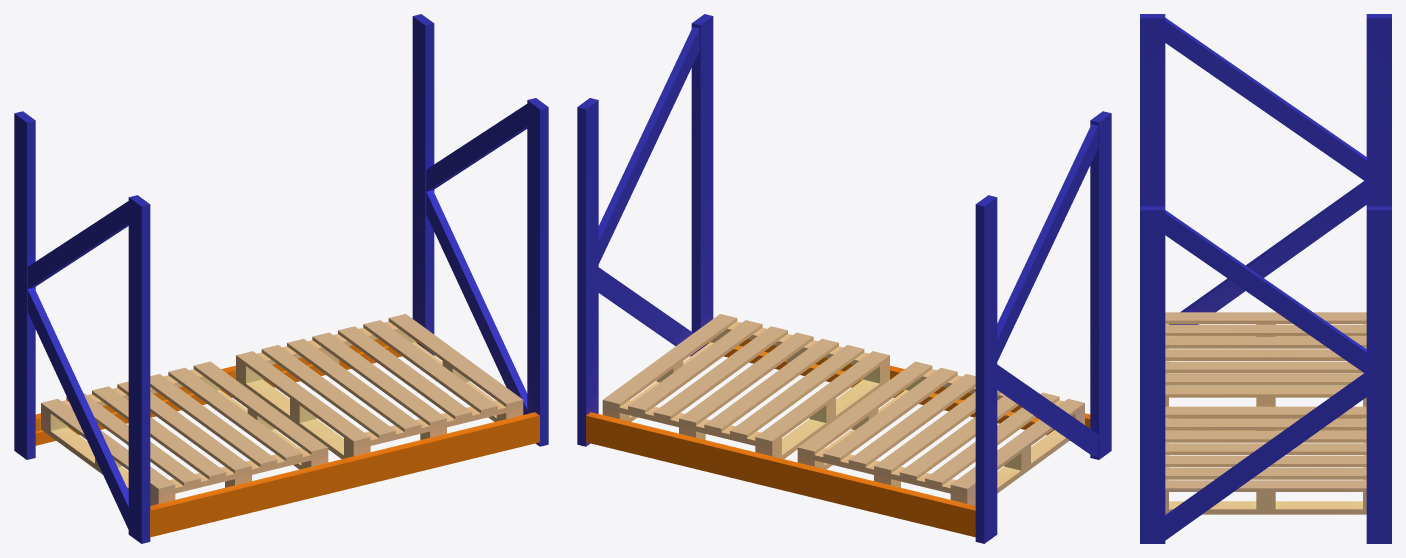
Rendered from Longarina_Separado_2pallets_TexturaUnica.glb.
3 renders of one model, left to right at view 1: azimuth 30°, elevation 25°; view 2: azimuth 150°, elevation 25°; view 3: azimuth 270°, elevation 25°, orthographic.
Visible parts, largest first — view 1: Barras_Laterais; view 2: Barras_Laterais; view 3: Barras_Laterais.
Part boxes in pixels (bbox=[...]): Barras_Laterais: bbox=[14, 14, 548, 543]; Barras_Laterais: bbox=[577, 14, 1111, 543]; Barras_Laterais: bbox=[1140, 14, 1391, 543].
Bounding box in the file's own units: 2.4 × 1.9 × 1.3.
1 material, 1 textured.
